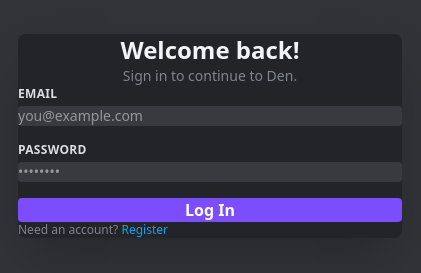
Test: AuthPage — login mode › displays an error message when signIn returns an error
The image size is (421, 273).
Type "bad@example.com" into the field with placeholder "you@example.com".
click(210, 116); type("bad@example.com")  # box [18,106,402,126]
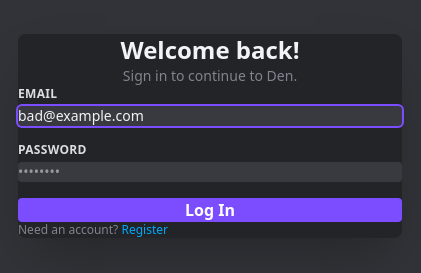
Type "wrongpassword" into the password field with placeholder "••••••••".
click(210, 172); type("wrongpassword")  # box [18,162,402,182]
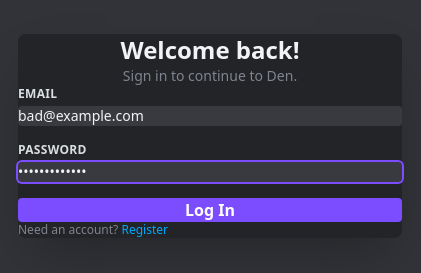
Click the button "Log In".
click(210, 210)  # box [18,198,402,222]
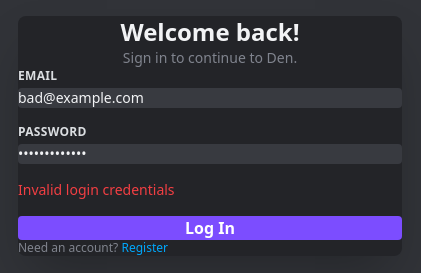
Check: the text "Invalid login credentials" is shown, box [18,180,175,199]
